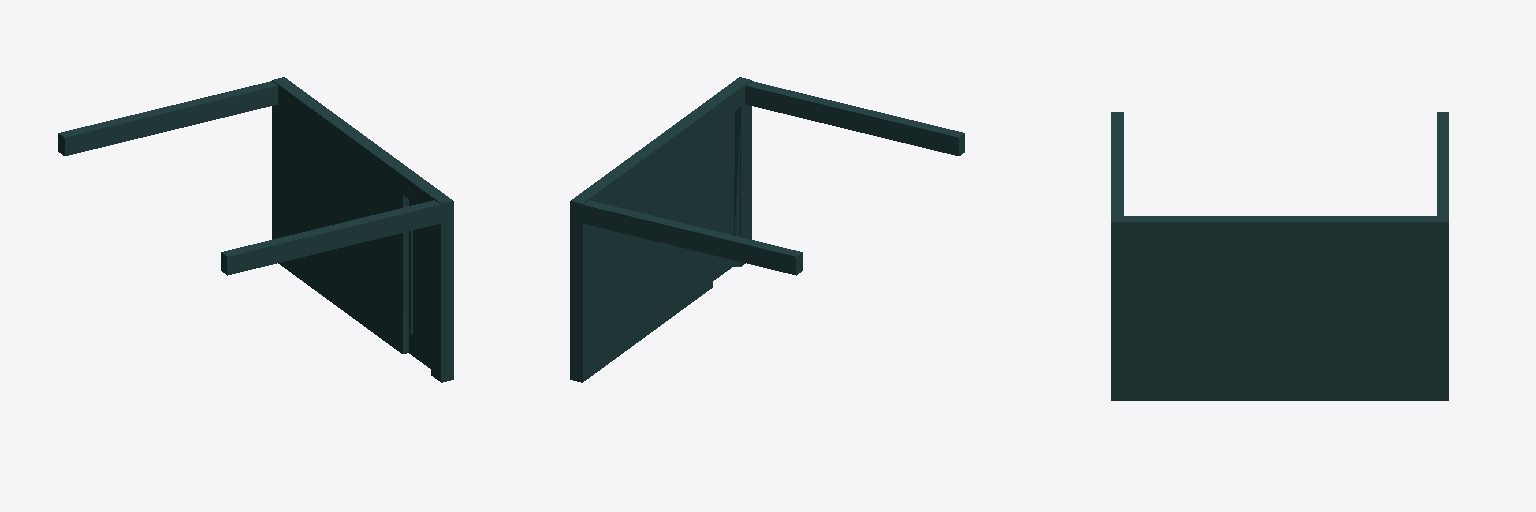
The model's file is wall1.obj.
3 renders of one model, left to right at view 1: azimuth 30°, elevation 25°; view 2: azimuth 150°, elevation 25°; view 3: azimuth 270°, elevation 25°, orthographic.
Visible parts, largest first — view 1: Cube.013_Cube.001, Cube.013_Cube.008, Cube.013_Cube.009; view 2: Cube.013_Cube.001, Cube.013_Cube.009, Cube.013_Cube.008; view 3: Cube.013_Cube.001, Cube.013_Cube.008, Cube.013_Cube.009.
Boxes of the visible parts, x1,y1,x2,y2 form: Cube.013_Cube.001: [272, 77, 453, 382]; Cube.013_Cube.008: [221, 200, 440, 275]; Cube.013_Cube.009: [58, 81, 277, 155]; Cube.013_Cube.001: [570, 77, 751, 382]; Cube.013_Cube.009: [583, 200, 802, 275]; Cube.013_Cube.008: [745, 81, 964, 155]; Cube.013_Cube.001: [1111, 216, 1448, 400]; Cube.013_Cube.008: [1111, 112, 1123, 215]; Cube.013_Cube.009: [1437, 112, 1448, 215].
Size of the model in its own units: 3.7 by 2.8 by 4.8.